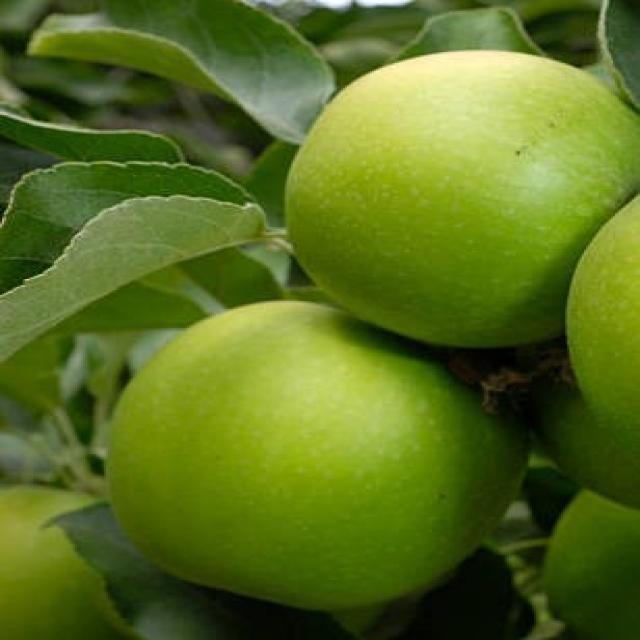Unripe: (104, 298, 528, 610), (278, 47, 640, 347)
